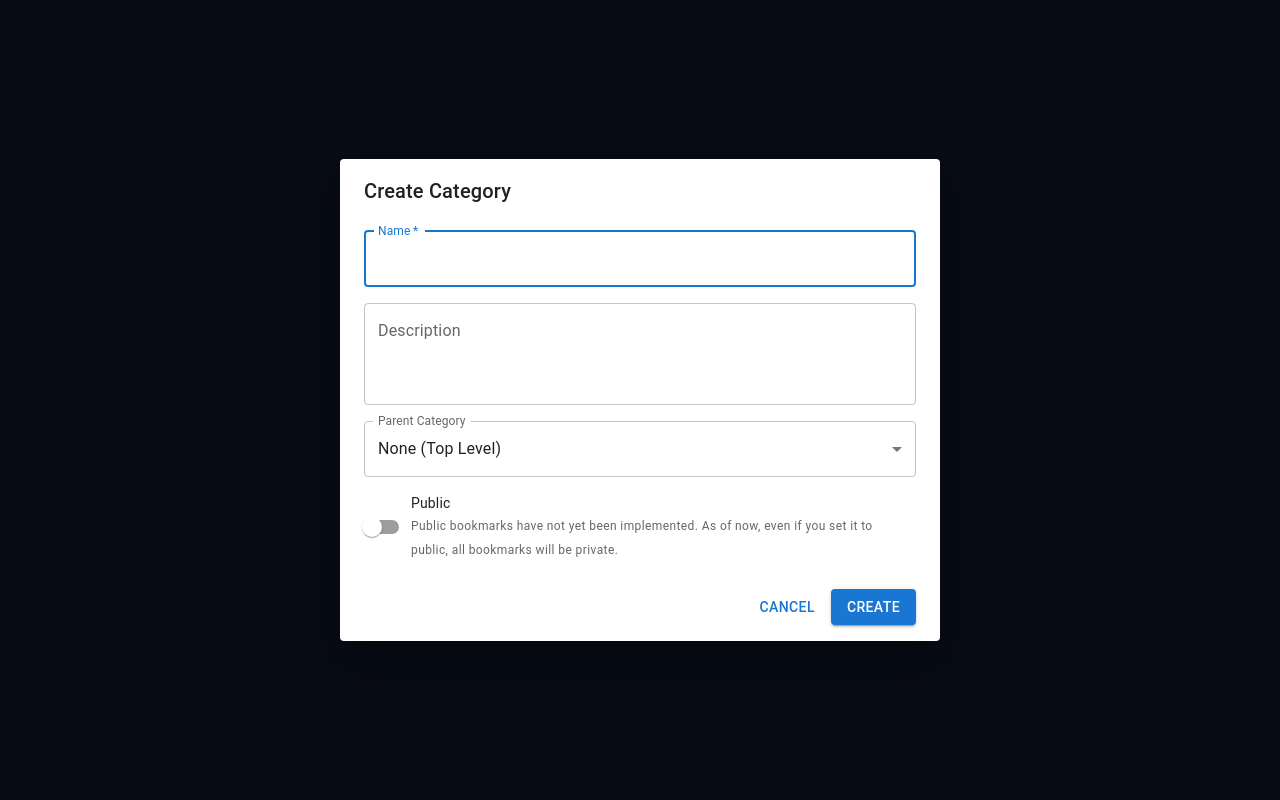
Test: CategoryFormModal › Form Validation - Name › should show error when name is empty
Click the button "Create": {"x": 873, "y": 607} [831,589,916,625]
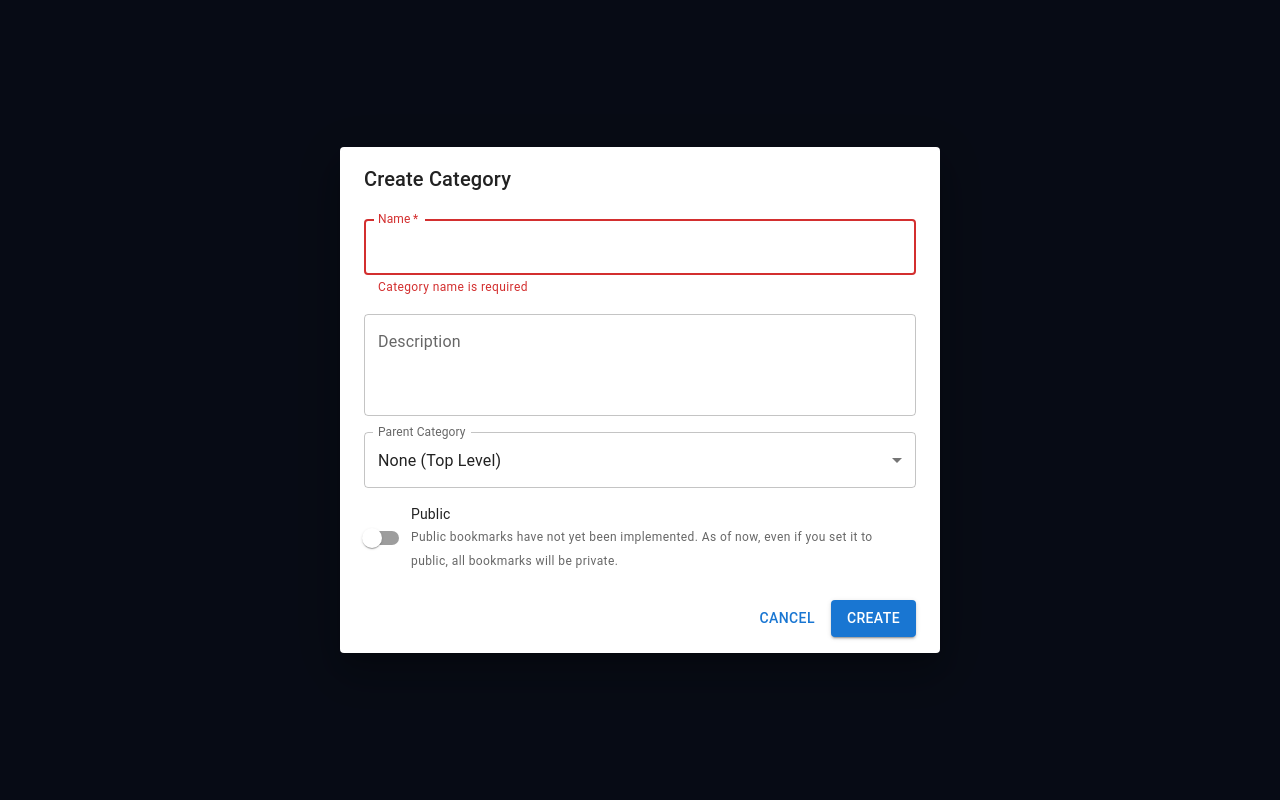
Expected: the text "Category name is required" is shown, [378,280,528,294]
